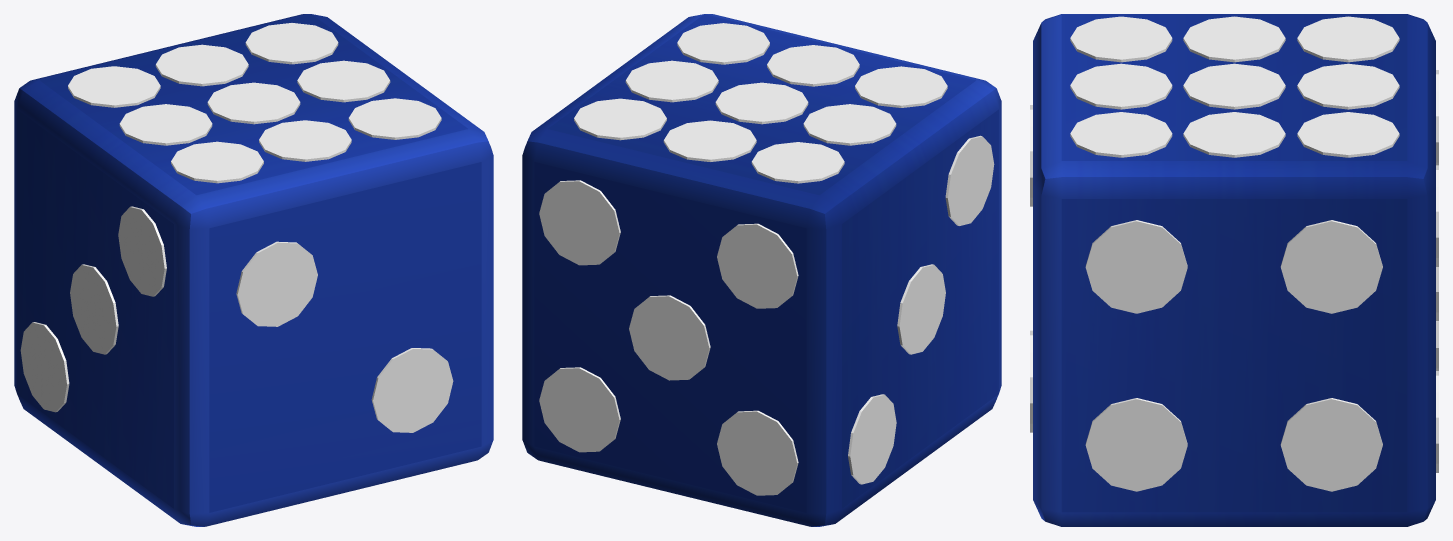
File: Dice_08.fbx
3 views of the same model, side by side, from view 1: azimuth 30°, elevation 25°; view 2: azimuth 150°, elevation 25°; view 3: azimuth 270°, elevation 25° (orthographic). The views are drawn at different scales.
Visible parts, largest first — view 1: pCube11; view 2: pCube11; view 3: pCube11.
Part boxes in pixels (x1,y1,x2,y2): pCube11: [14, 14, 493, 526]; pCube11: [522, 14, 1001, 526]; pCube11: [1030, 14, 1438, 526].
Bounding box in the file's own units: 2.03 × 2.03 × 2.03.
